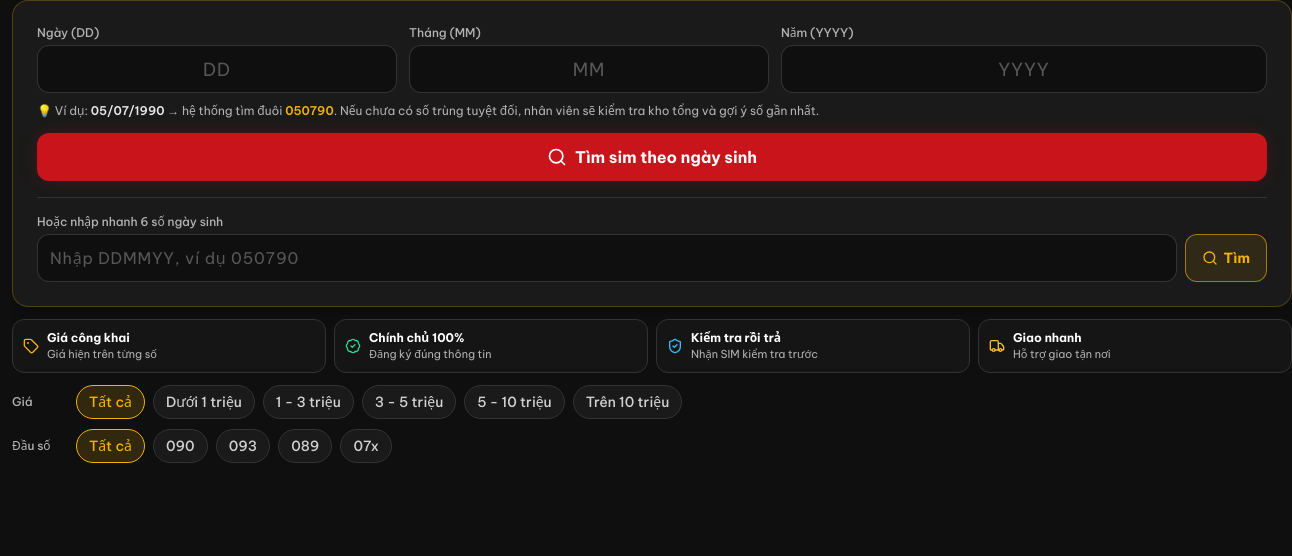
Test: SimNgaySinhFinder — landing /sim-ngay-thang-nam-sinh › nhập sai (ngày 32, tháng 13, thiếu năm) → báo lỗi, không gọi API
Type "32" into the field labelled "Ngày (DD)" at point(217, 69), box [37,45,397,93]
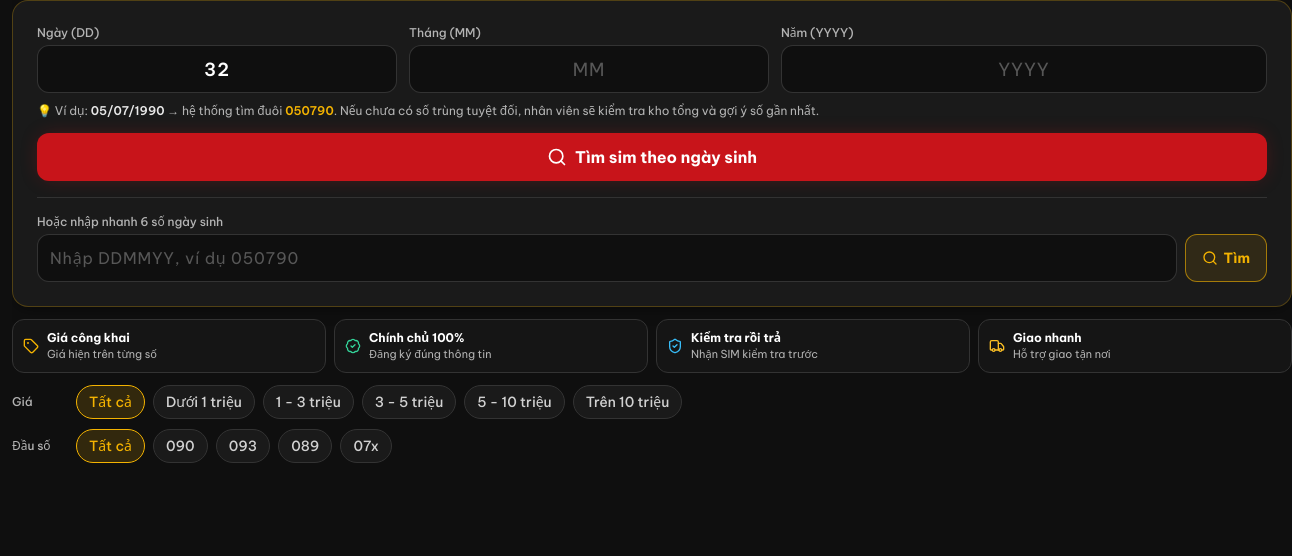
Type "13" into the field labelled "Tháng (MM)" at point(589, 69), box [409,45,769,93]
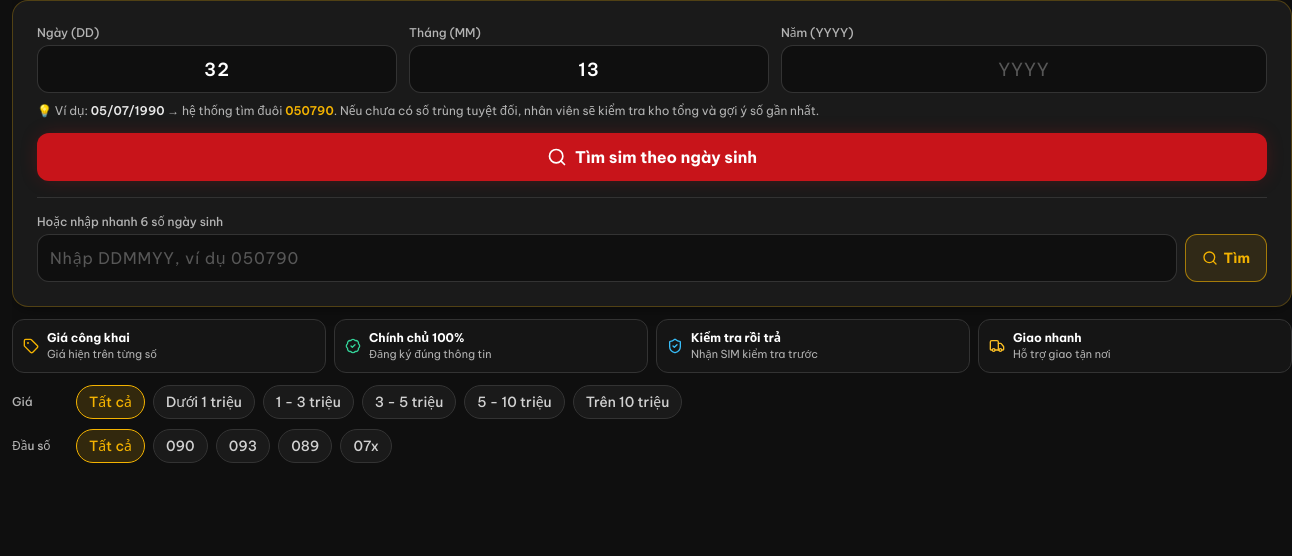
Click the button "Tìm sim theo ngày sinh" at point(652, 156), box [37,132,1267,180]
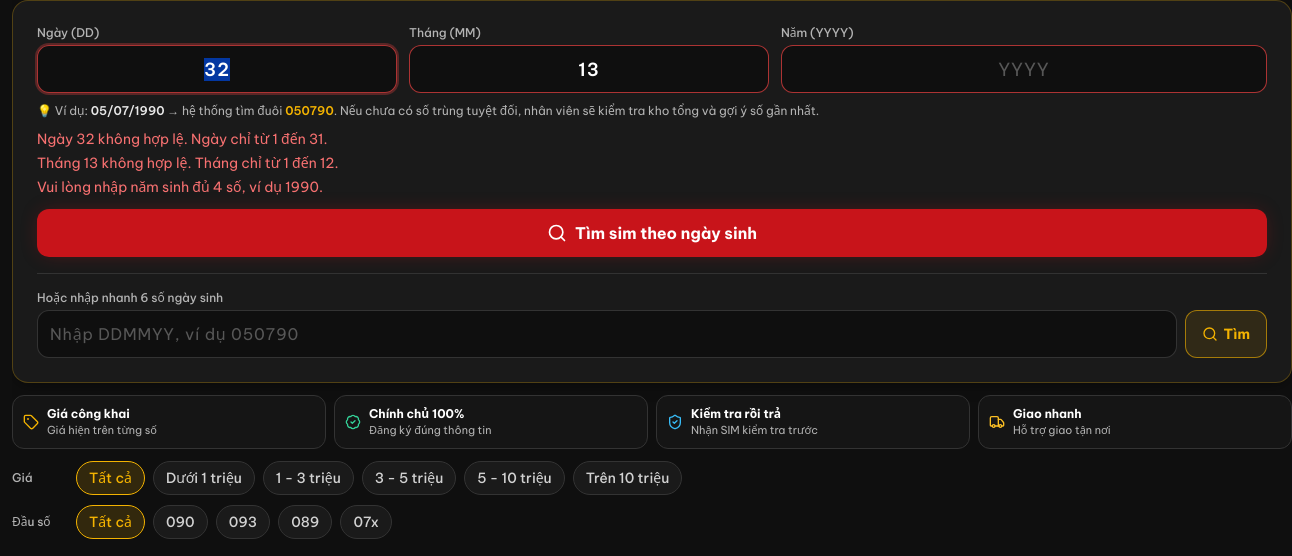
Expected: the text "Ngày 32 không hợp lệ. Ngày chỉ từ 1 đến 31." is shown, [37,130,328,148]
Expected: the text "Tháng 13 không hợp lệ. Tháng chỉ từ 1 đến 12." is shown, [37,154,338,172]
Expected: the text "Vui lòng nhập năm sinh đủ 4 số, ví dụ 1990." is shown, [37,178,323,196]
